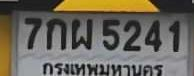1: (168, 19, 179, 50)
2: (122, 18, 140, 50)
4: (144, 19, 161, 50)
5: (102, 18, 119, 50)
7: (24, 16, 41, 48)
A01: (46, 17, 66, 49)
A28: (70, 18, 92, 48)
BKK: (40, 60, 164, 76)
